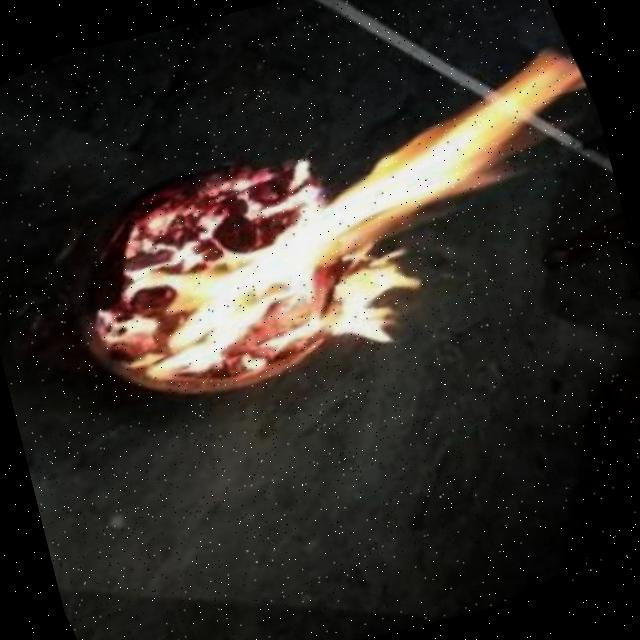fire: (80, 56, 628, 384)
